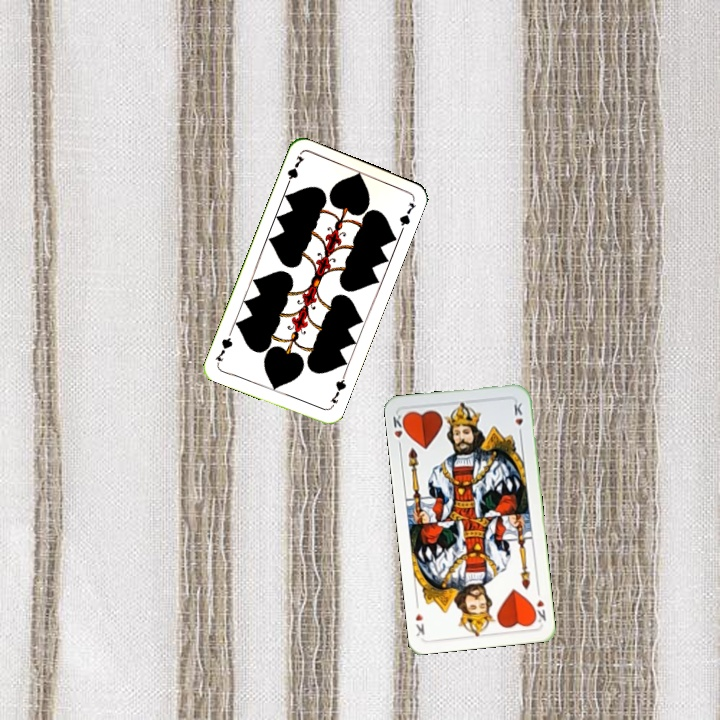G7: (282, 151, 307, 190), (326, 371, 349, 410)
HK: (389, 410, 409, 451), (529, 585, 548, 626)
